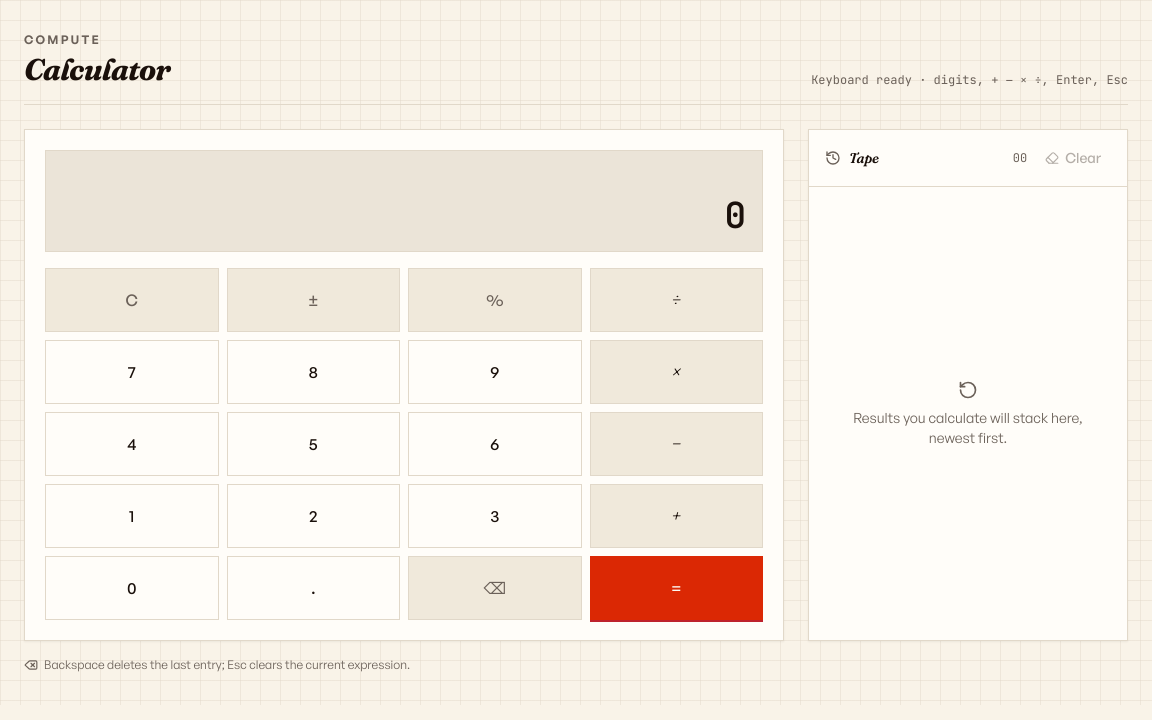
Test: CalculatorPage › clears the expression and the history tape
The image size is (1152, 720).
Click the button "5" at {"x": 313, "y": 444}, box [226, 412, 400, 476]
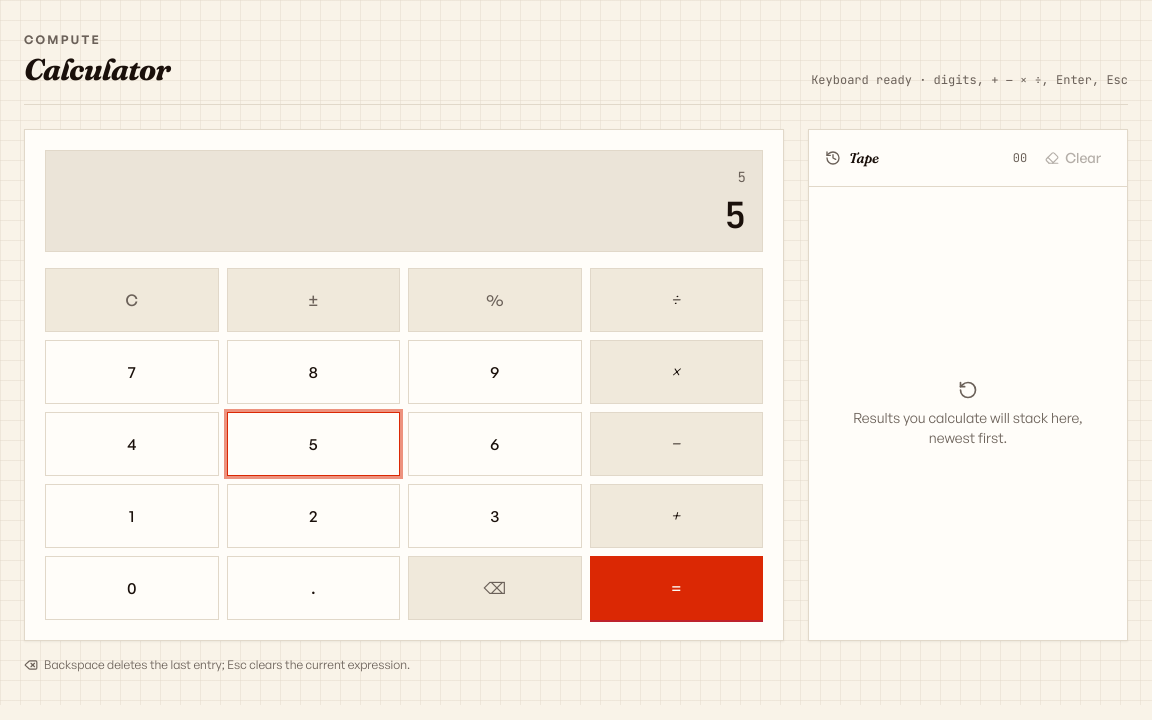
Click the button named "Add" at {"x": 676, "y": 516}, box [590, 484, 763, 548]
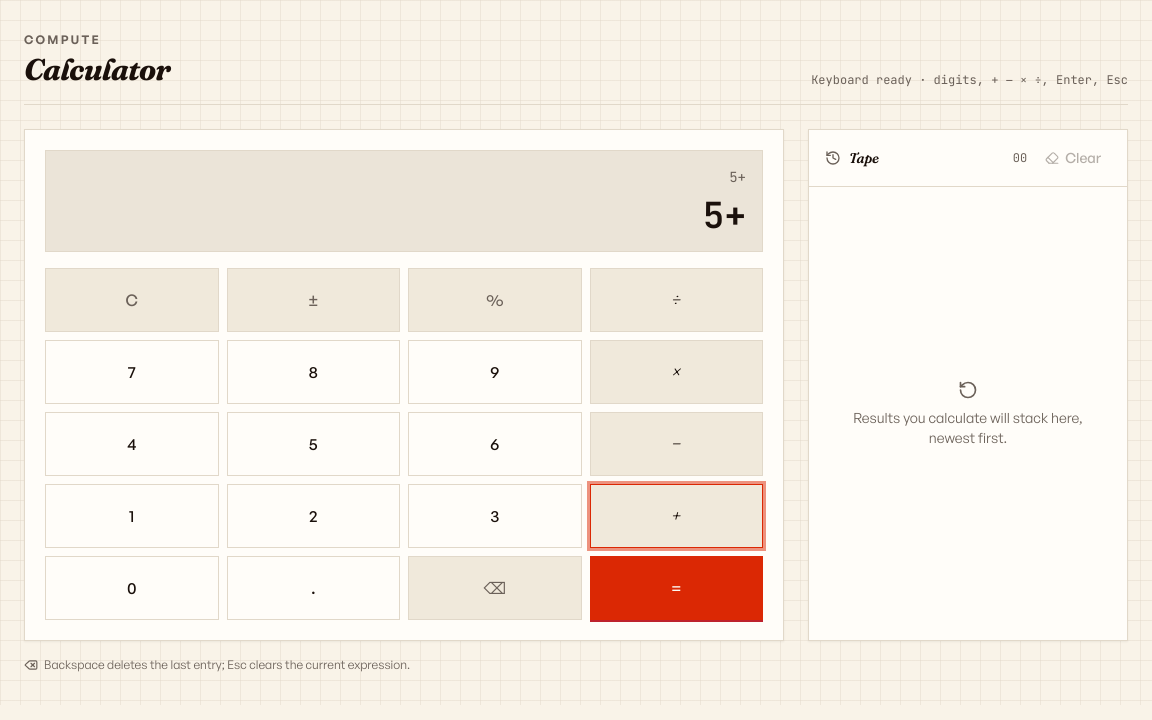
Click the button "5" at {"x": 313, "y": 444}, box [226, 412, 400, 476]
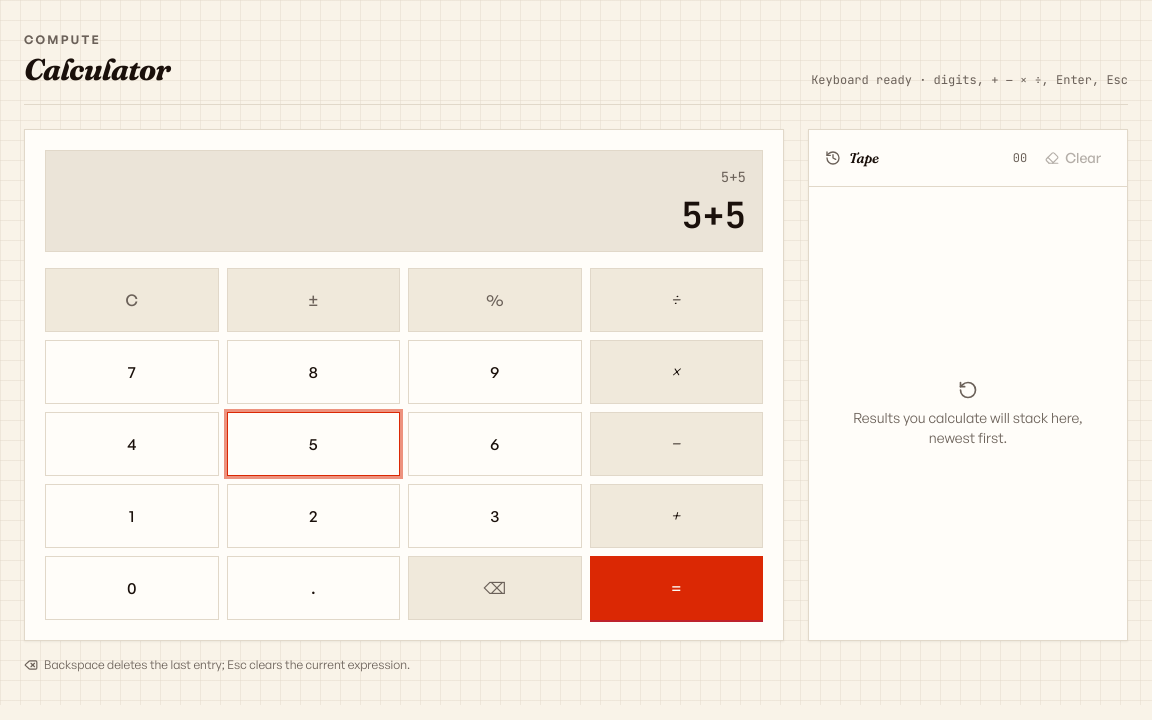
Click the button named "Equals" at {"x": 676, "y": 588}, box [590, 556, 763, 620]
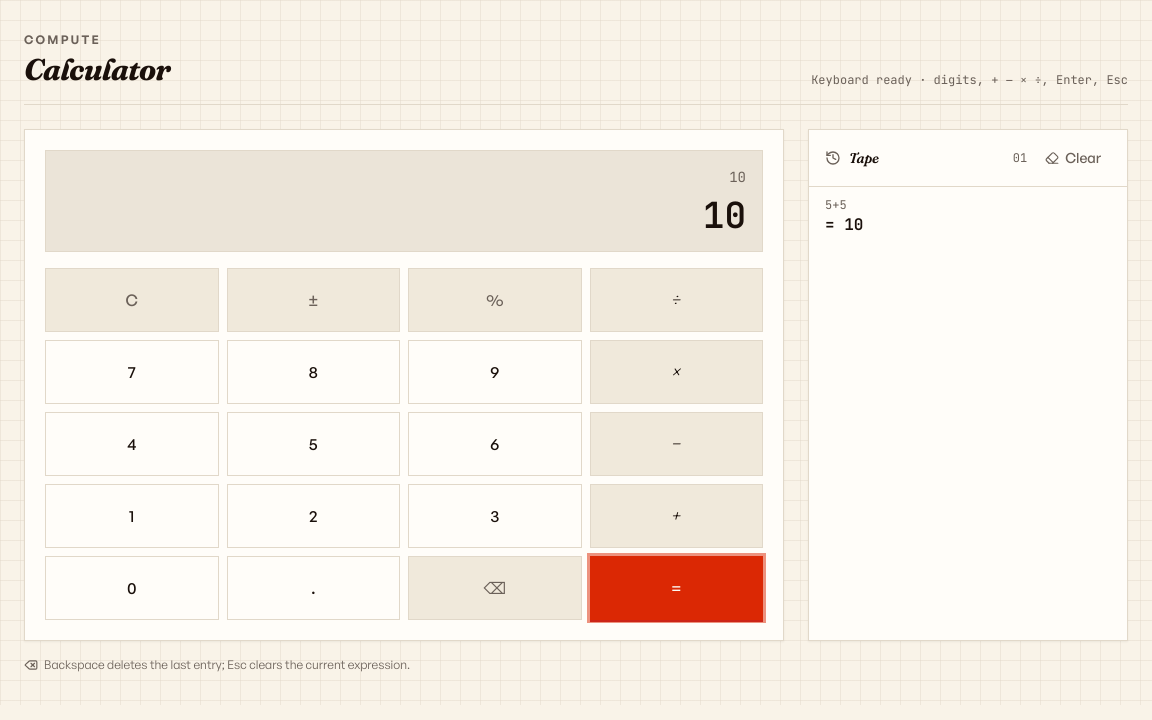
Expected: the list is shown, [825, 197, 863, 235]
# The keypad C clears the current expression.
Click the button "C" at {"x": 132, "y": 300}, box [45, 268, 218, 332]
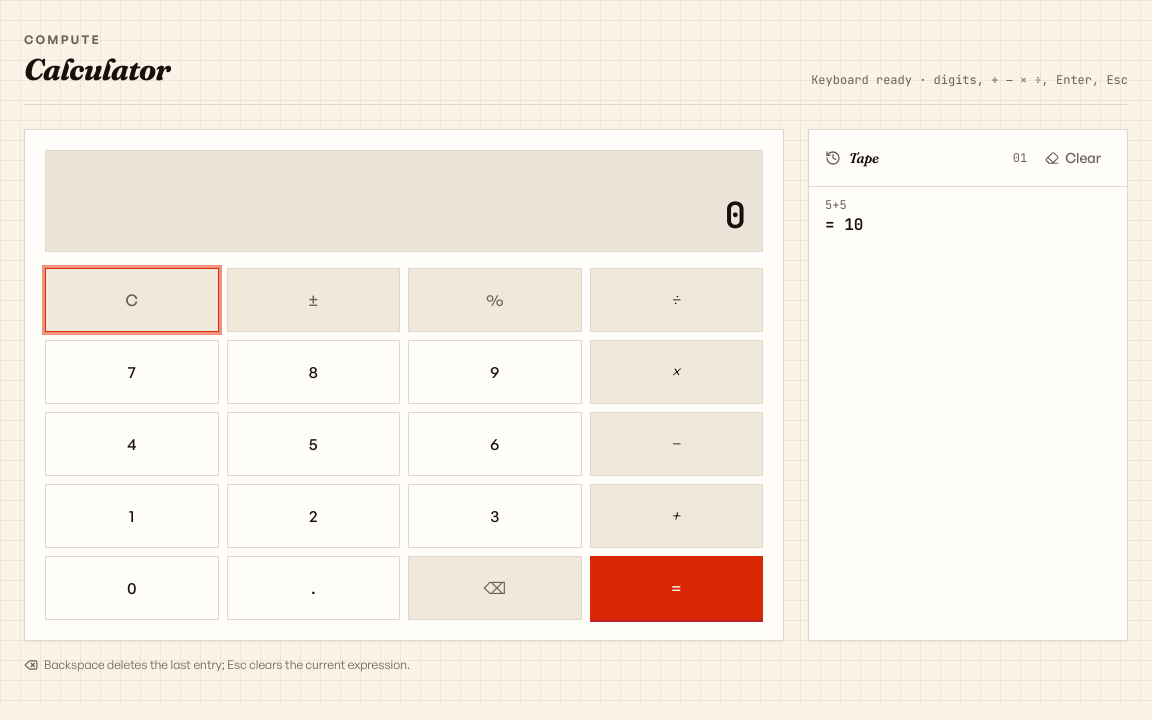
Expected: the text named "Calculator result" reads "0", [724, 191, 746, 239]
# The tape's Clear control empties the history.
Click the button "Clear" at {"x": 1073, "y": 158}, box [1035, 142, 1111, 174]
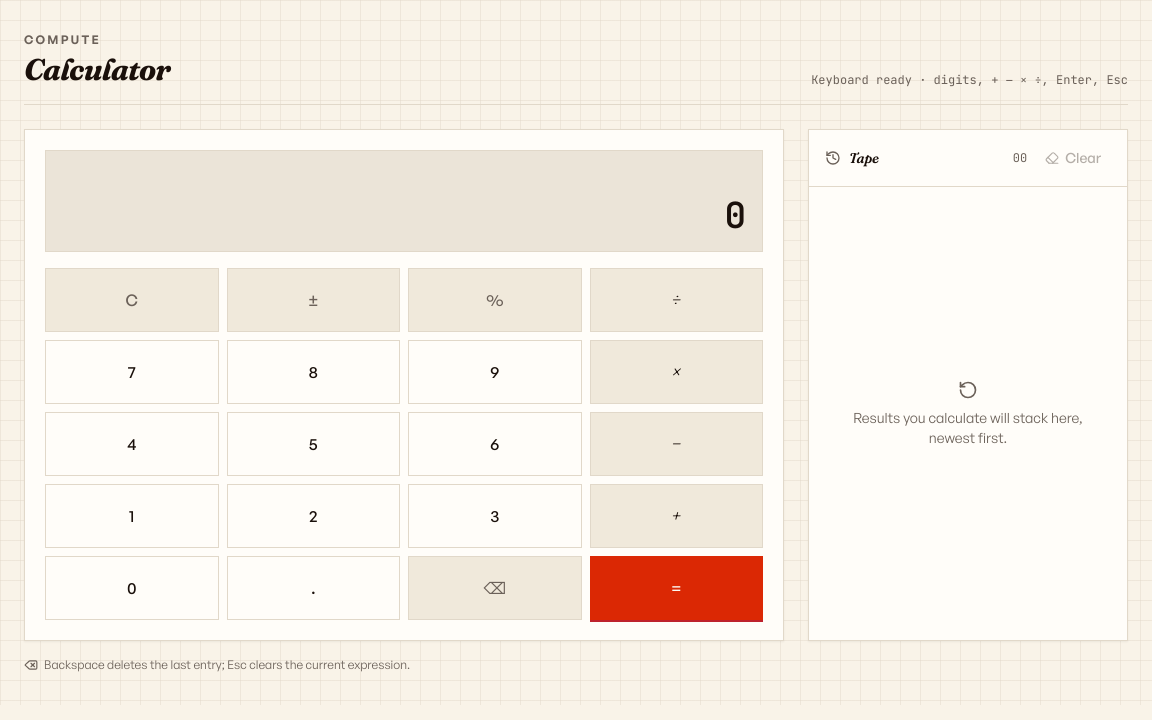
Expected: the text "Results you calculate will stack here, newest first." is shown, [853, 408, 1083, 446]
